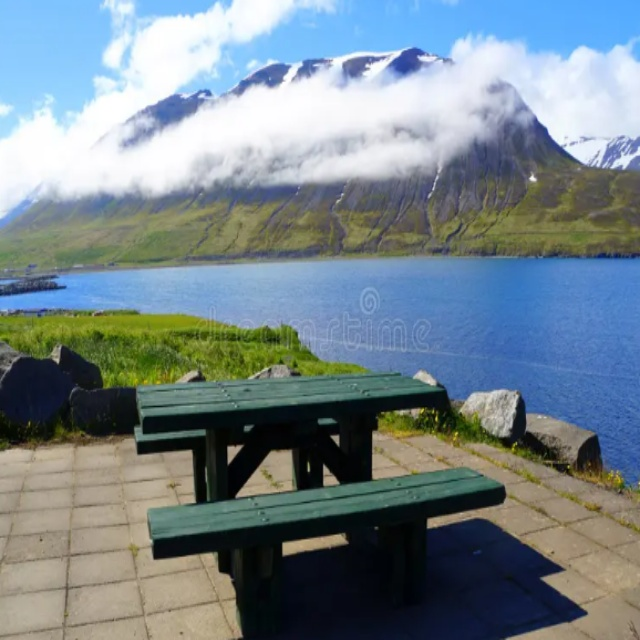obstacle: (120, 365, 509, 613)
